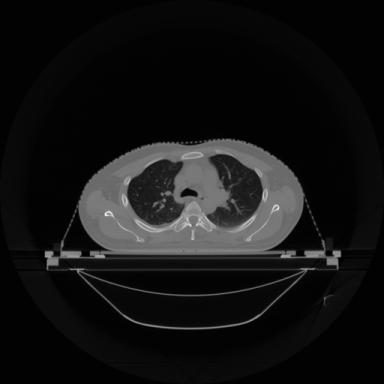body: (79, 140, 303, 252)
cord: (173, 202, 214, 240)
paru kanan: (128, 160, 184, 225)
paru kiri: (208, 154, 262, 227)
